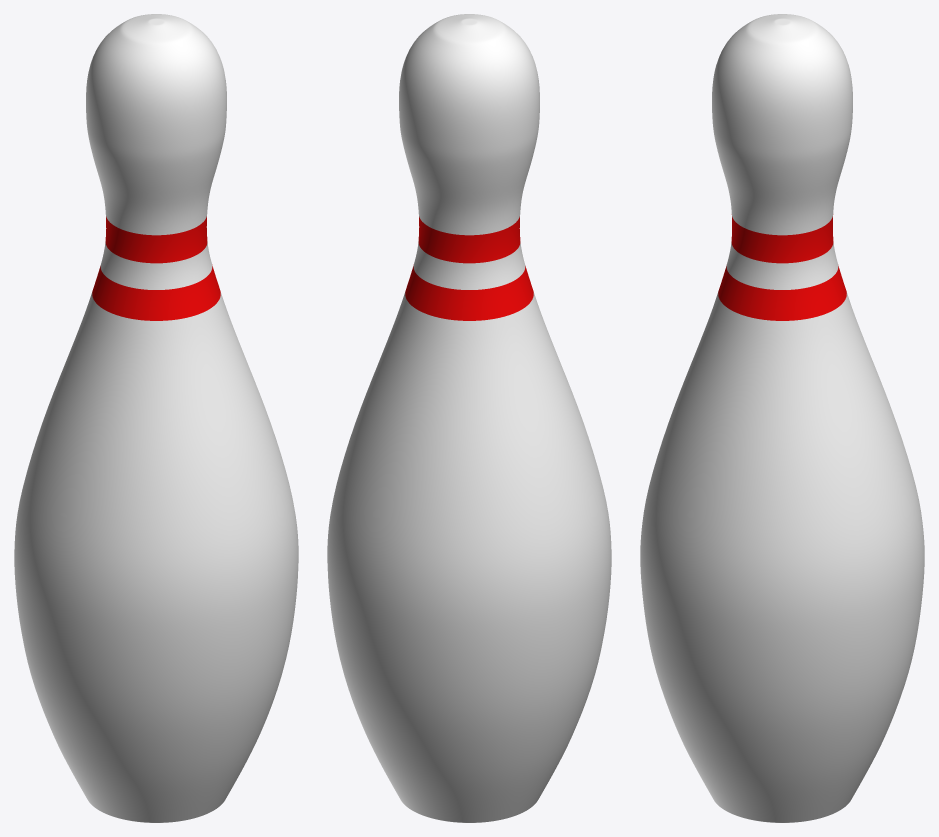
Rendered from Bowling Pin.fbx.
3 renders of one model, left to right at view 1: azimuth 30°, elevation 25°; view 2: azimuth 150°, elevation 25°; view 3: azimuth 270°, elevation 25°, orthographic.
Parts seen in each view (by area): view 1: Plane; view 2: Plane; view 3: Plane.
Part boxes in pixels (<box>): Plane: <box>14,14,298,822</box>; Plane: <box>327,14,611,822</box>; Plane: <box>640,14,924,822</box>.
Size of the model in its own units: 239 by 716 by 239.
1 material, 1 textured.
